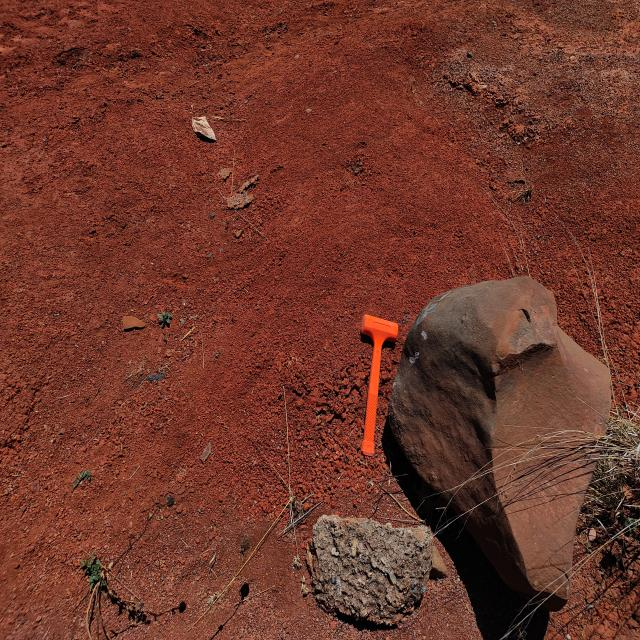Orange_hammer: (359, 312, 398, 456)
